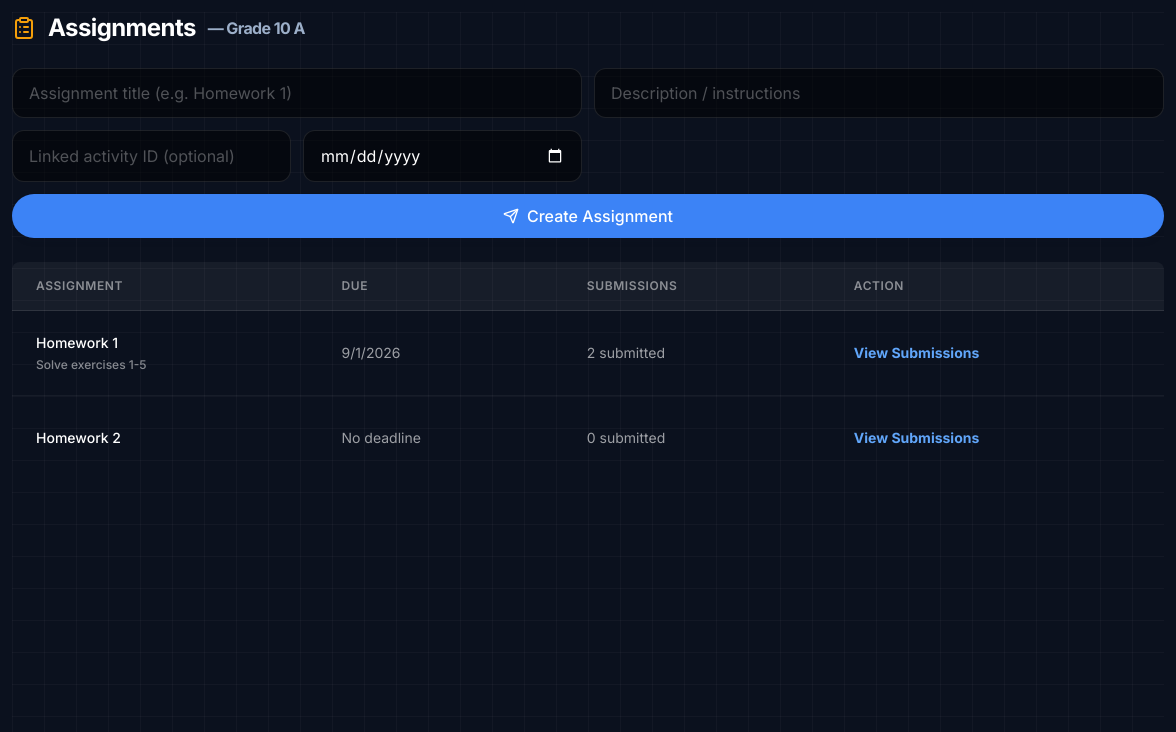
Test case: AssignmentManager › shows submissions and an honest empty state inside the panel
Check: the text "Homework 1" is shown, box [36,334,118,351]
Click the button "View Submissions" in the row of "Homework 1". click: click(917, 353)
box: [854,331,979,375]
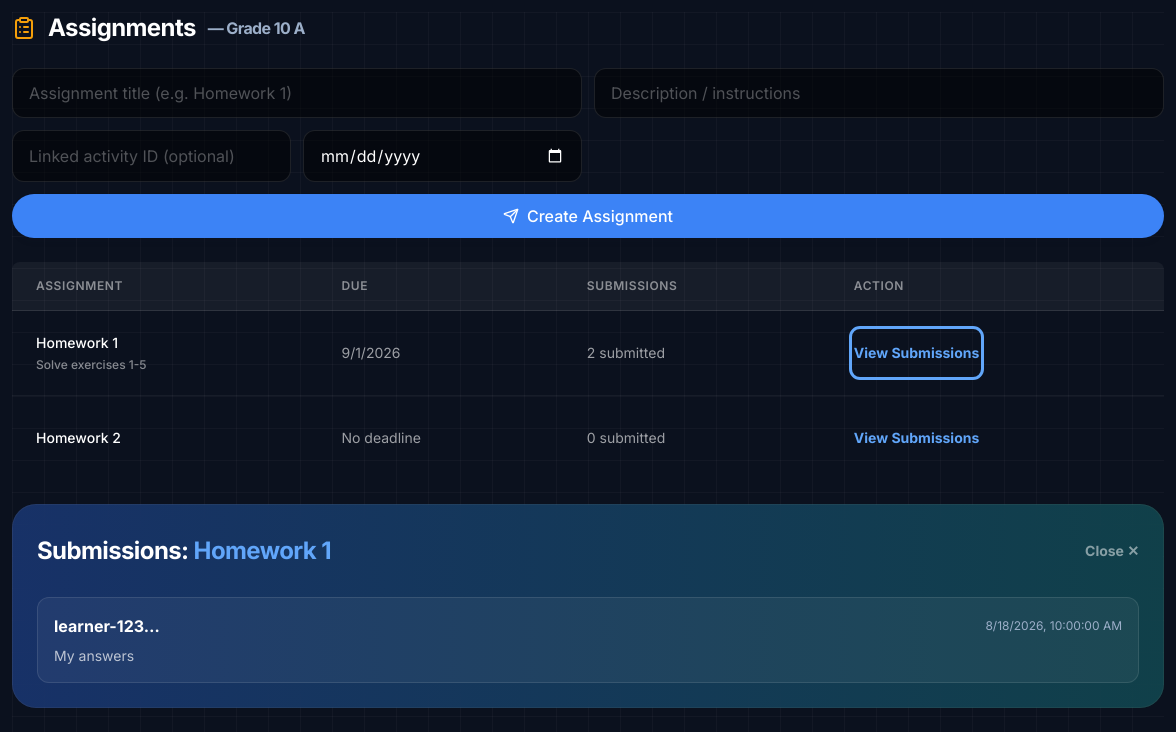
Check: the text "My answers" is shown, box [54,647,134,664]
Click the button "Close ✕". click: click(1112, 551)
box: [1085,529,1139,573]
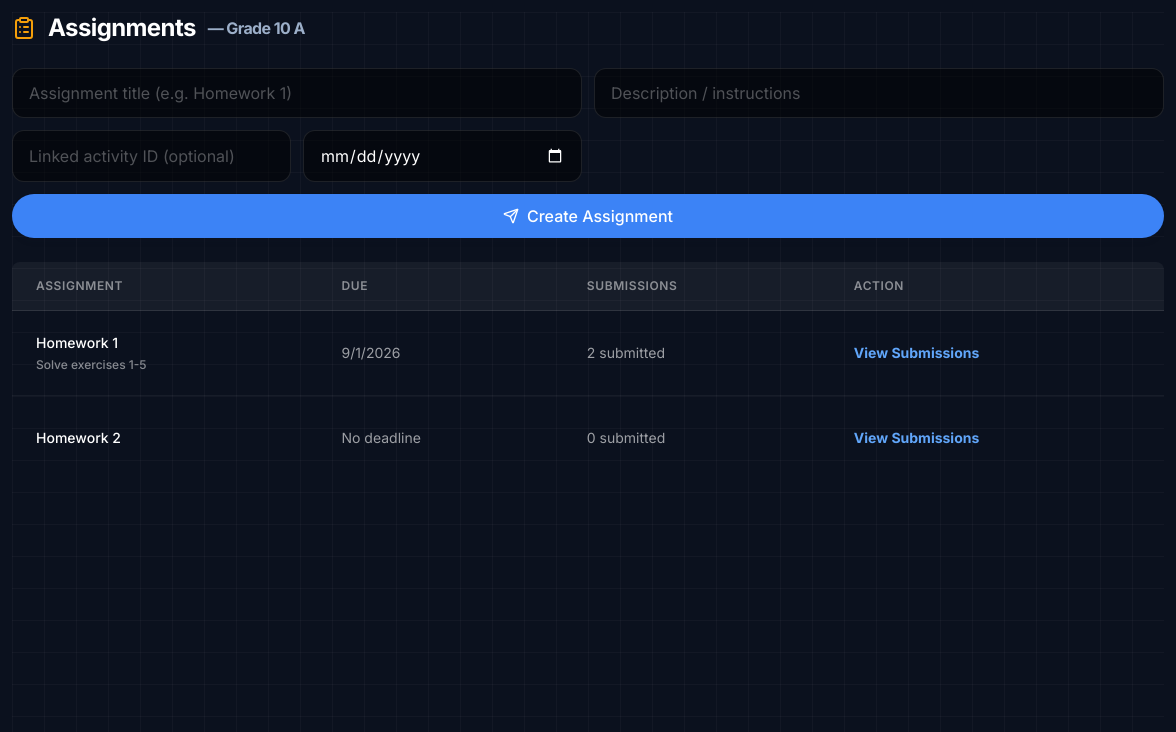
Click the button "View Submissions" in the row of "Homework 2". click: click(917, 438)
box: [854,416,979,460]
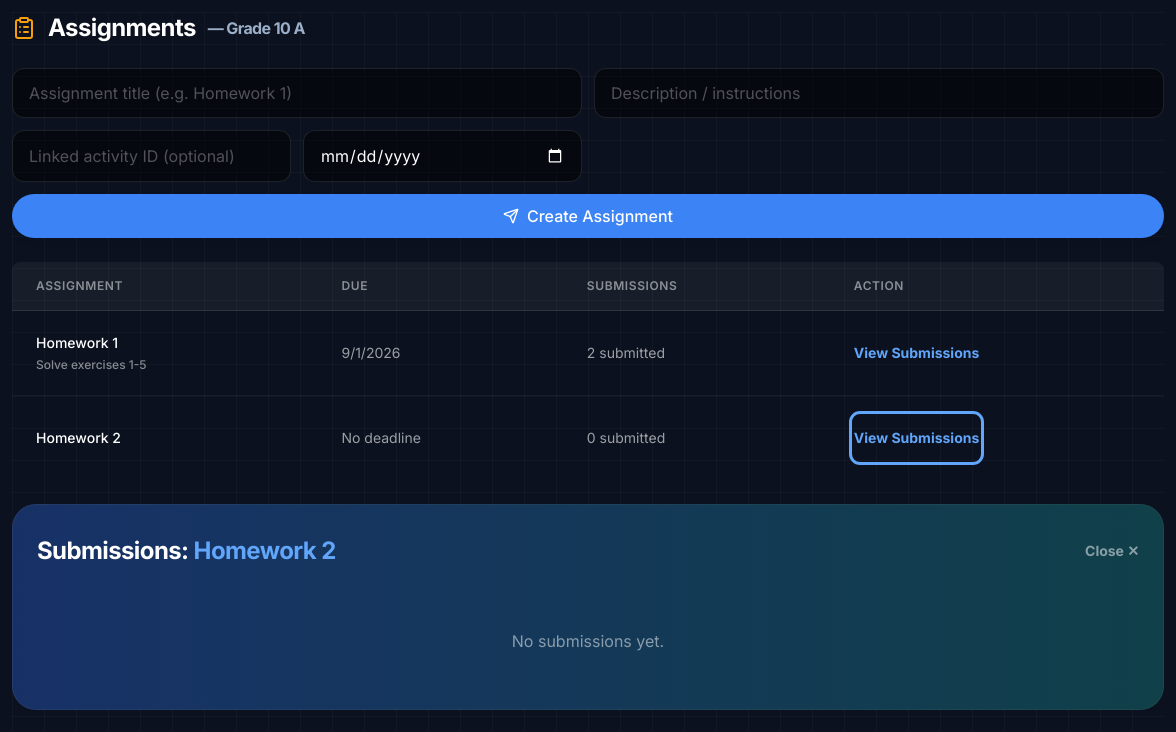
Check: the text "No submissions yet." is shown, box [512,631,664,651]
